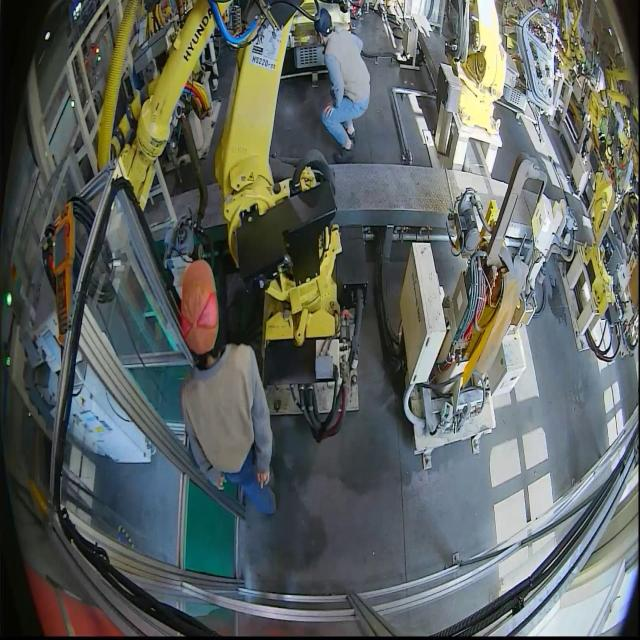Person: (179, 259, 277, 516), (313, 8, 371, 163)
